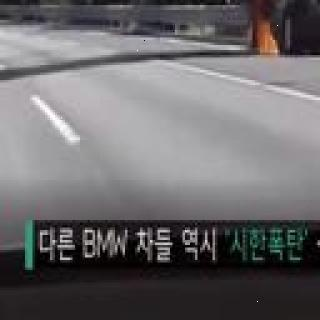fire: (255, 0, 297, 58)
